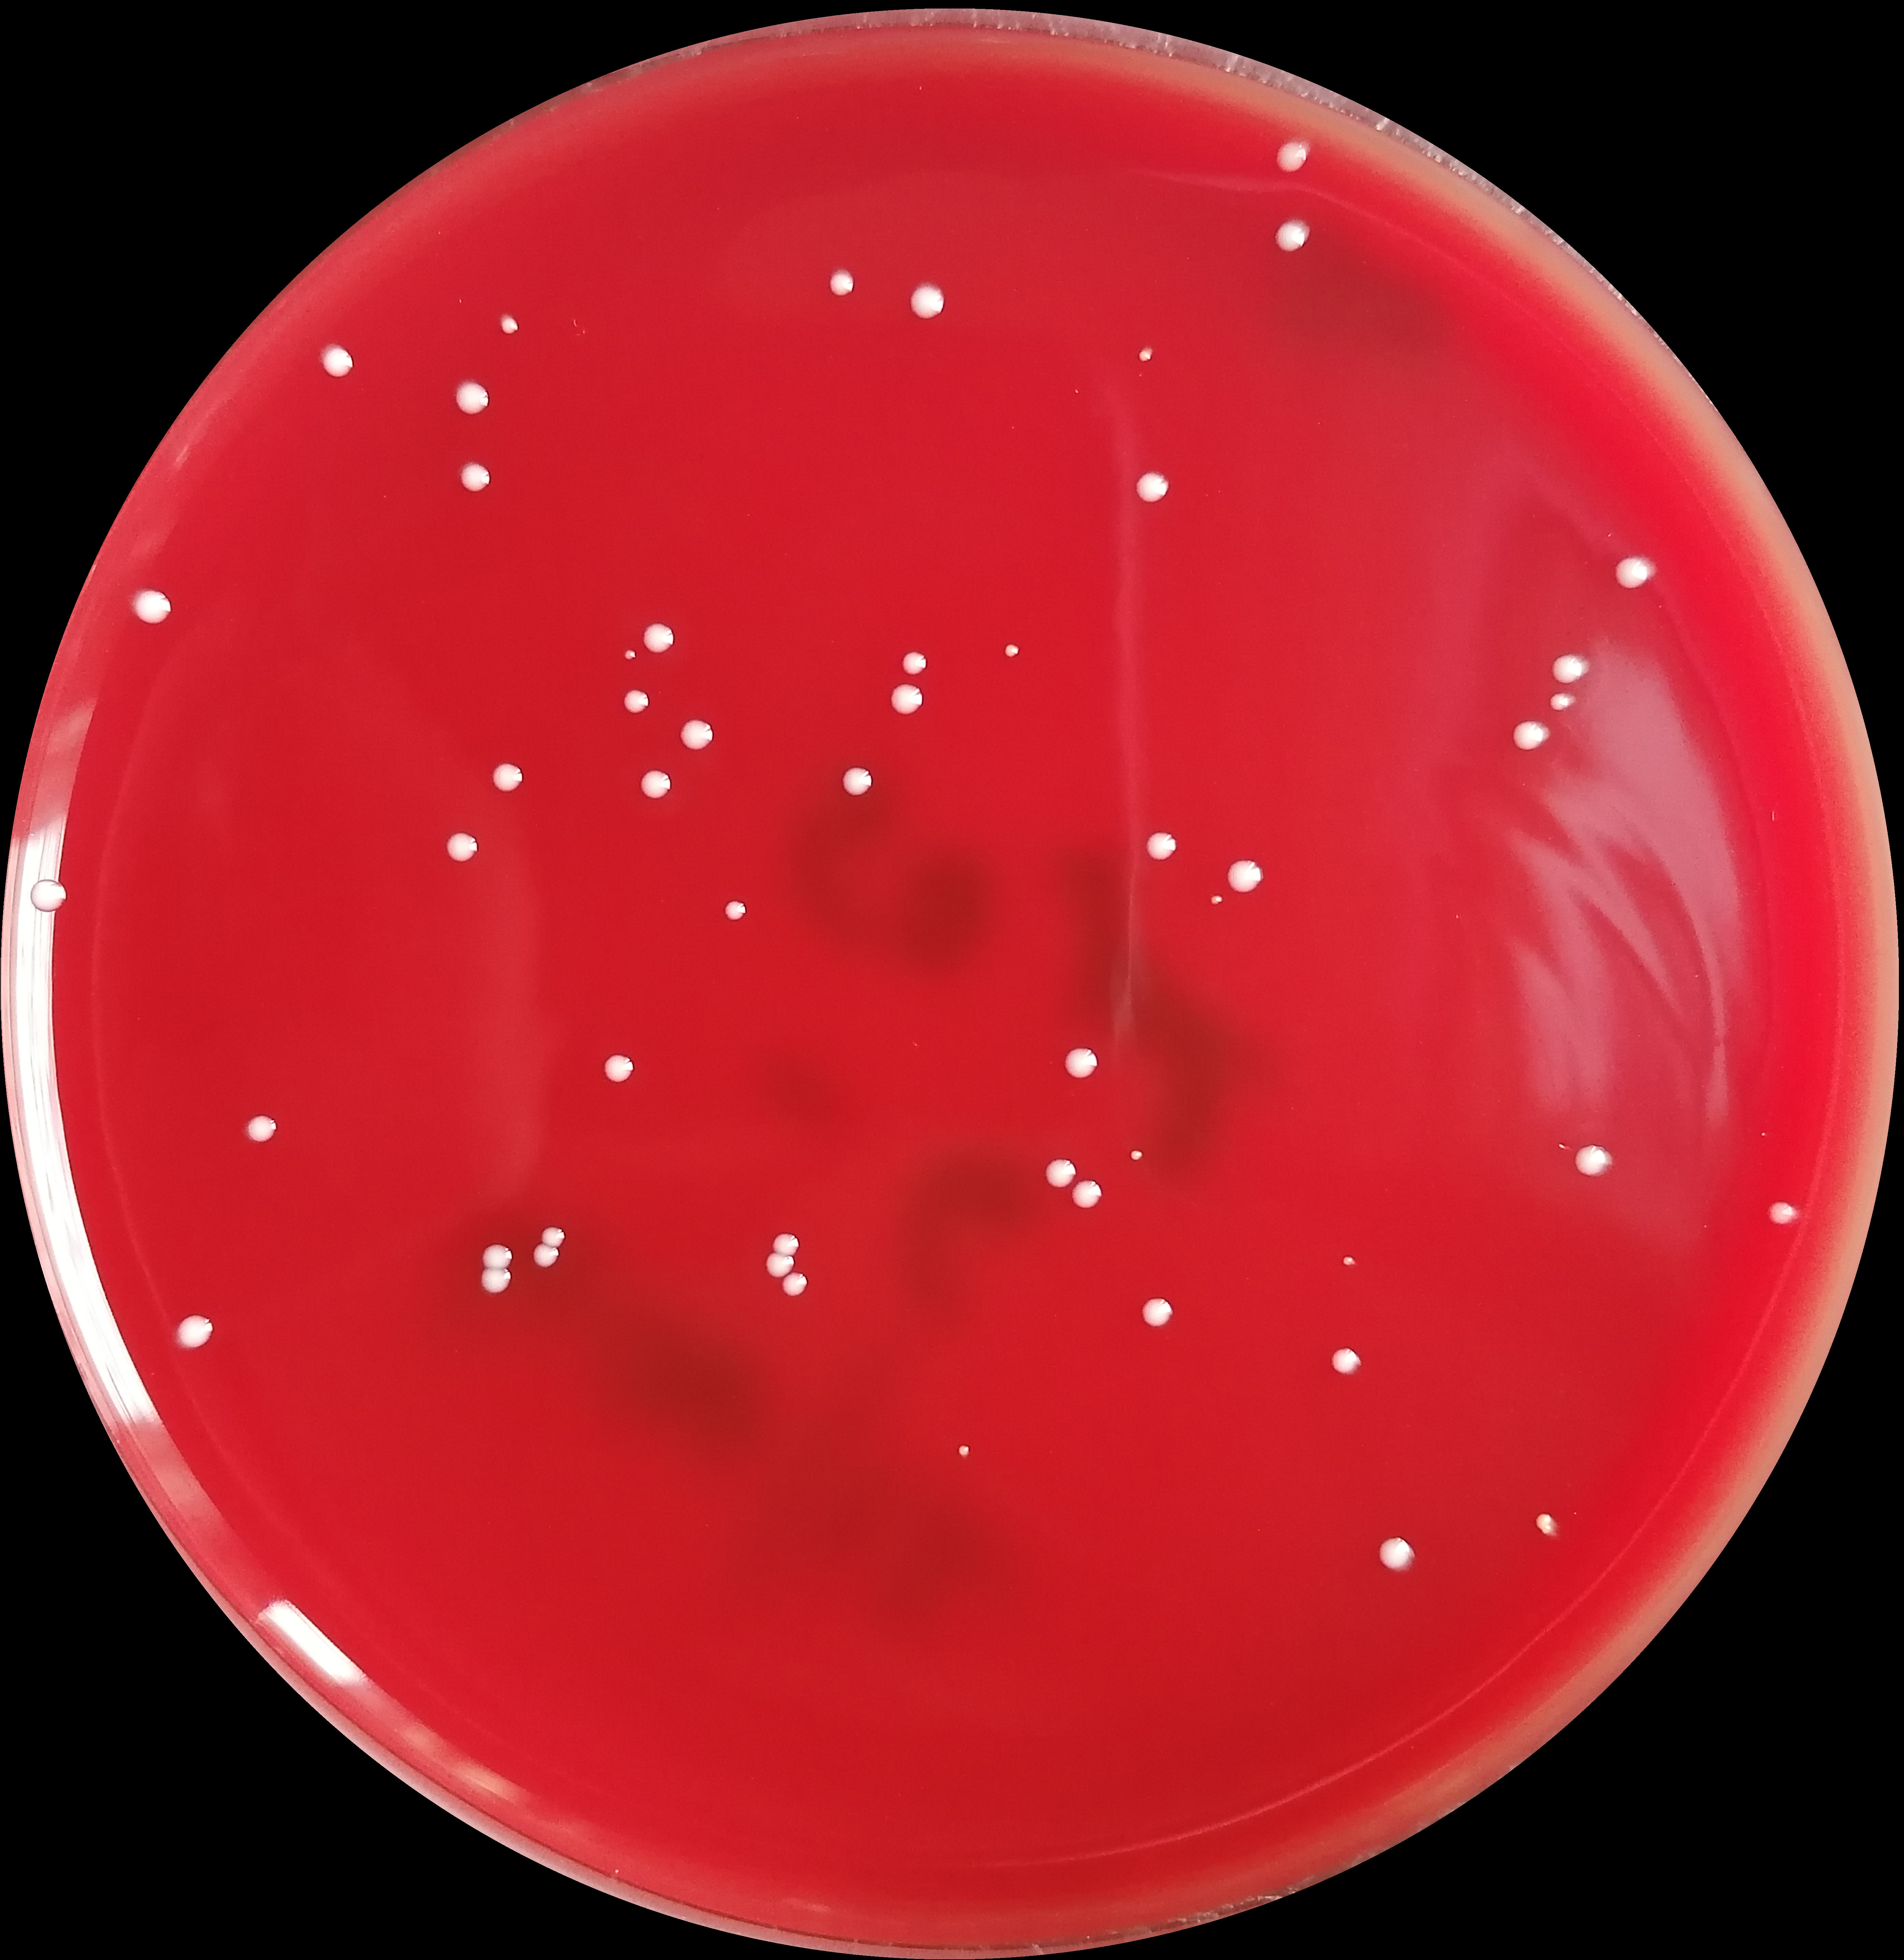sp21: (1754, 1185, 1808, 1244), (170, 1309, 219, 1351), (317, 339, 361, 381), (130, 586, 173, 628), (1270, 215, 1312, 257), (28, 875, 70, 917), (1374, 1535, 1417, 1575), (1059, 1043, 1101, 1081), (1571, 1141, 1614, 1179), (907, 283, 947, 322), (1132, 469, 1173, 507), (1614, 553, 1654, 591), (1223, 857, 1265, 894), (1038, 1155, 1080, 1192), (637, 766, 679, 803), (677, 716, 719, 752), (452, 380, 490, 418), (639, 619, 679, 656), (602, 1048, 639, 1087), (1510, 716, 1547, 752), (488, 759, 525, 796), (889, 681, 927, 716), (1551, 651, 1589, 686), (1136, 1295, 1176, 1328), (1325, 1346, 1365, 1379), (443, 829, 483, 863), (1272, 140, 1309, 175), (1069, 1178, 1106, 1213), (838, 761, 875, 796), (457, 460, 495, 493), (1143, 829, 1180, 861), (478, 1263, 514, 1295), (618, 686, 658, 714), (240, 1113, 276, 1143), (480, 1241, 513, 1272), (824, 268, 856, 299), (530, 1241, 562, 1272), (765, 1249, 796, 1279), (781, 1270, 808, 1300), (721, 896, 751, 924), (768, 1230, 800, 1256), (900, 649, 929, 675), (1530, 1508, 1559, 1535), (497, 310, 523, 339), (537, 1223, 565, 1249), (999, 640, 1024, 663), (1547, 689, 1571, 712), (1134, 345, 1155, 366), (954, 1440, 977, 1459), (1125, 1146, 1146, 1165), (1339, 1251, 1358, 1269), (620, 649, 639, 661), (1207, 891, 1223, 905)
